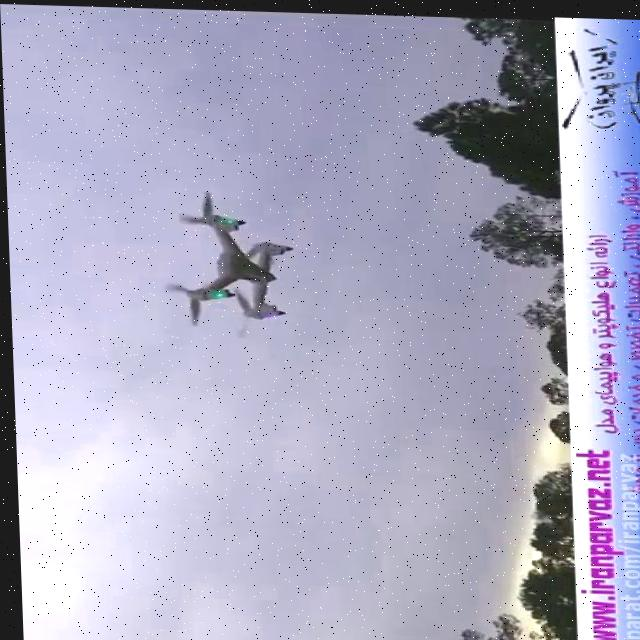drone: (151, 184, 296, 342)
